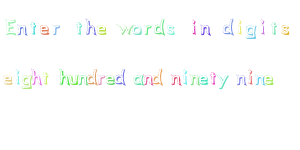E: (2, 16, 16, 37)
a: (131, 72, 144, 87)
d: (221, 17, 236, 36), (153, 17, 166, 37), (114, 67, 127, 87), (85, 66, 97, 87), (152, 68, 164, 86)
e: (264, 71, 276, 88), (96, 21, 108, 37), (1, 72, 14, 86), (105, 72, 116, 88), (198, 71, 209, 87), (38, 23, 50, 36)
g: (245, 23, 257, 40), (21, 74, 32, 90)
h: (58, 66, 71, 88), (85, 15, 96, 38), (31, 68, 42, 86)
i: (258, 18, 268, 35), (189, 17, 198, 35), (236, 19, 245, 37), (13, 68, 22, 86), (246, 67, 254, 87), (182, 68, 189, 87)
n: (170, 71, 182, 88), (142, 72, 154, 88), (199, 24, 213, 37), (234, 73, 247, 86), (16, 23, 28, 36), (78, 72, 89, 86), (254, 72, 264, 86), (190, 73, 200, 86)
o: (131, 23, 144, 37)
r: (50, 23, 61, 37), (97, 74, 107, 88), (142, 23, 152, 35)
s: (280, 22, 291, 36), (166, 22, 176, 37)
t: (74, 18, 84, 36), (208, 69, 217, 86), (29, 19, 38, 35), (269, 20, 278, 36), (42, 71, 51, 86)
u: (68, 72, 79, 87)
w: (116, 22, 133, 38)
y: (217, 73, 229, 90)
